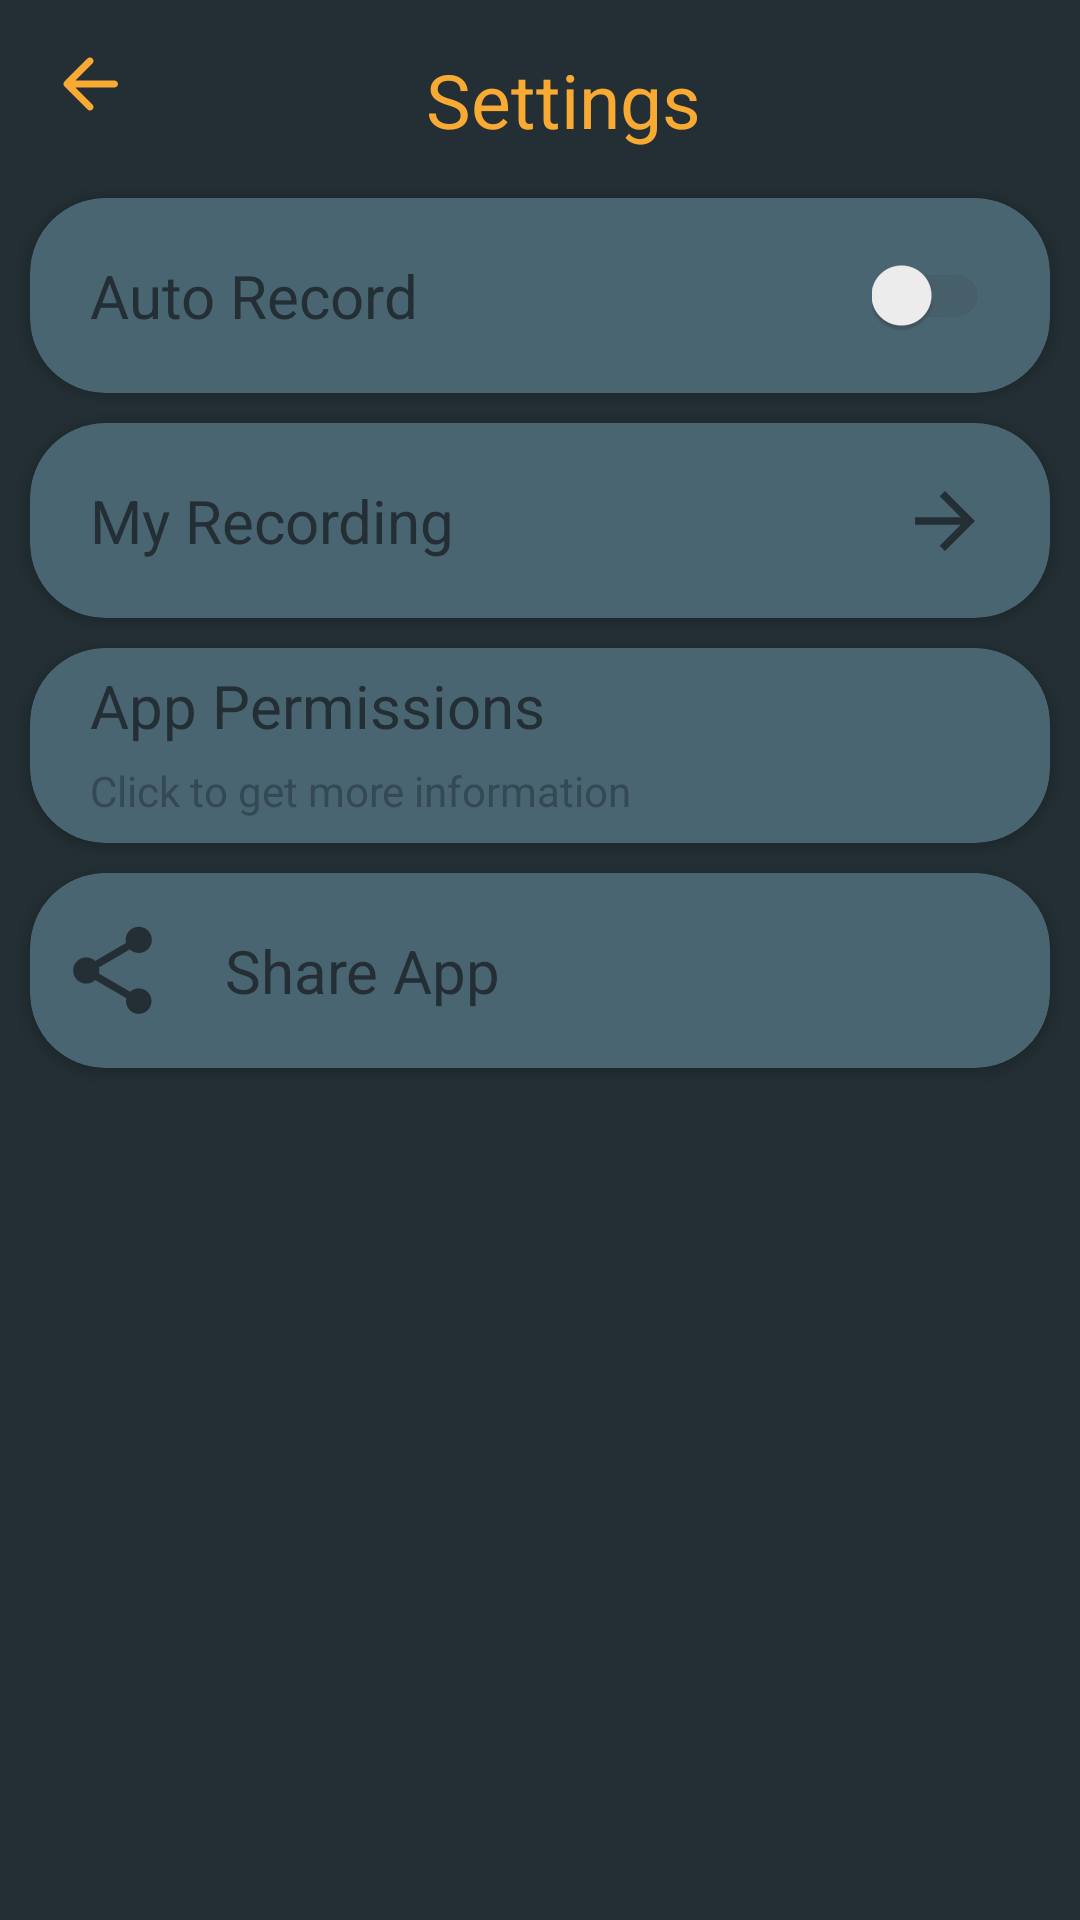

Named icons in this screenshot (1080 × 1920) and their bounding boxes, [x1,y1,x2,y2]:
arrow back: [63,57,118,111]
arrow forward: [915,491,975,551]
